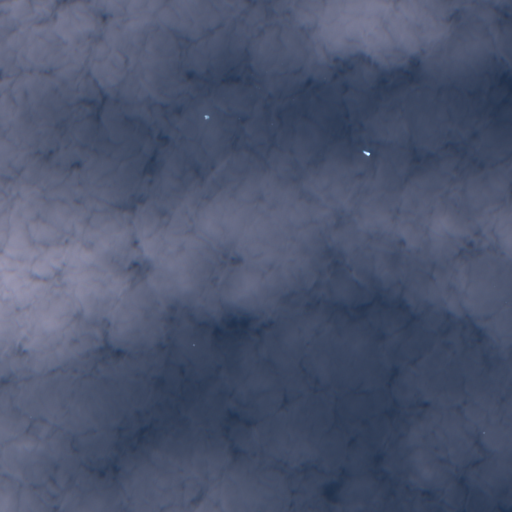Iceberg: (363, 150, 370, 156), (204, 115, 209, 119), (193, 344, 194, 345), (483, 432, 484, 433)
